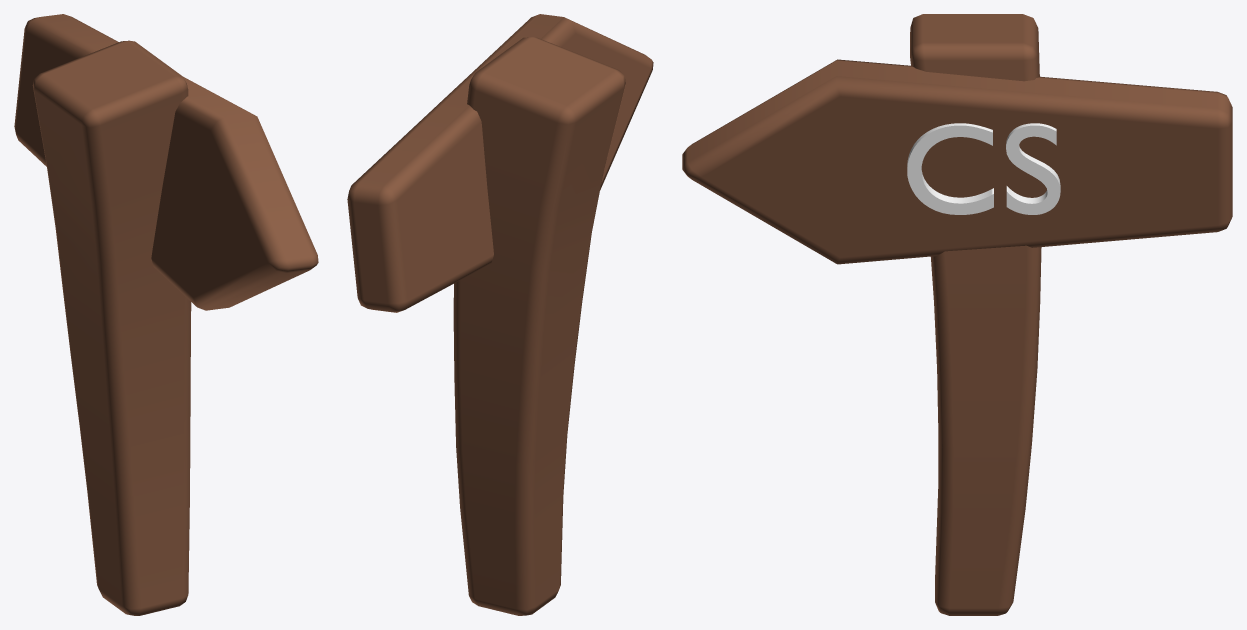
Rendered from cs_direct.glb.
The picture shows the model from 3 angles, left to right: view 1: azimuth 30°, elevation 25°; view 2: azimuth 150°, elevation 25°; view 3: azimuth 270°, elevation 25°; orthographic projection. The views are drawn at different scales.
Visible parts, largest first — view 1: Plane.009, Plane.010; view 2: Plane.009, Plane.010; view 3: Plane.010, Plane.009, Text.
Part boxes in pixels (box(x1,y1,x2,y2)): Plane.009: box(32, 40, 191, 615); Plane.010: box(14, 14, 318, 310); Plane.009: box(453, 37, 625, 615); Plane.010: box(347, 14, 653, 312); Plane.010: box(682, 59, 1232, 264); Plane.009: box(910, 14, 1041, 615); Text: box(907, 123, 1060, 214).
Size of the model in its own units: 0.562 by 2.11 by 1.86.
